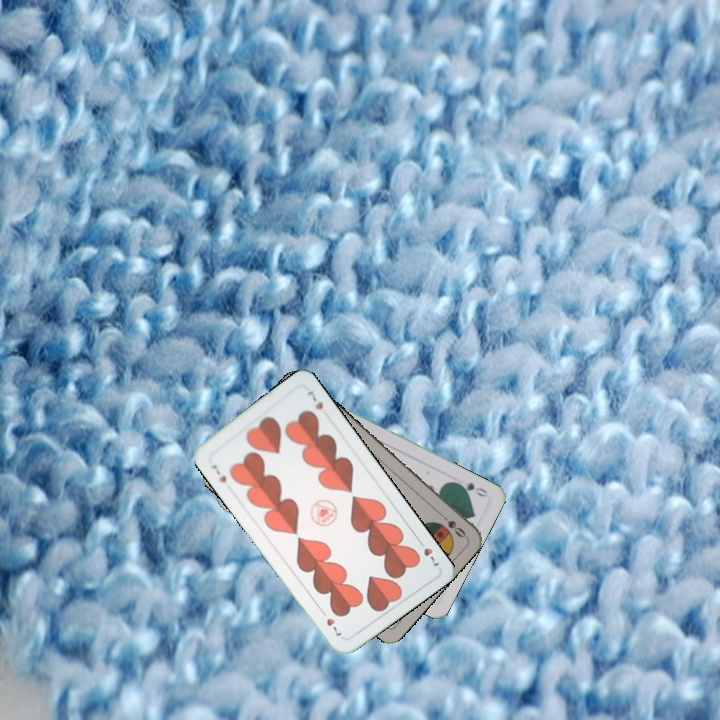GO: (451, 478, 491, 500)
H7: (413, 535, 442, 569), (208, 460, 229, 485)
SO: (435, 509, 469, 540)
